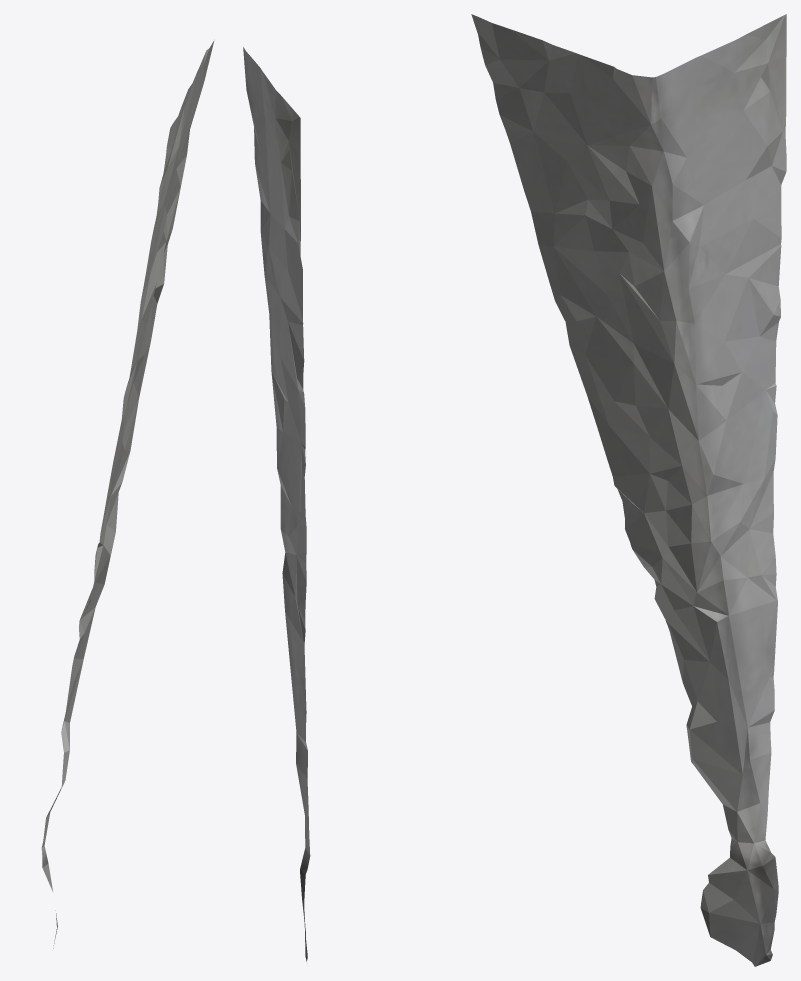
3 views of the same model, side by side, from view 1: azimuth 30°, elevation 25°; view 2: azimuth 150°, elevation 25°; view 3: azimuth 270°, elevation 25° (orthographic). The views are drawn at different scales.
Size of the model in its own units: 0.2103 by 1.47 by 0.4422.
Materials: 1 (1 with a texture image).
